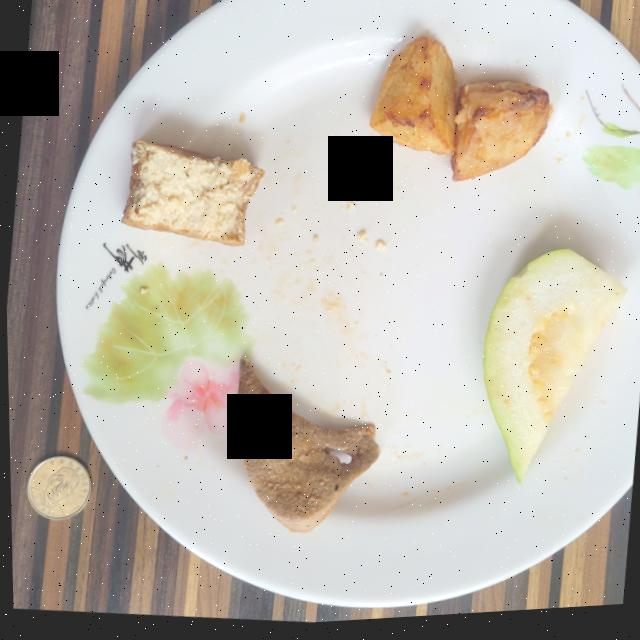coin: (24, 457, 89, 520)
egg tofu: (120, 142, 264, 248)
fried potato: (369, 41, 549, 186)
guava -sliced-: (481, 256, 625, 488)
pig liver: (235, 362, 377, 536)
